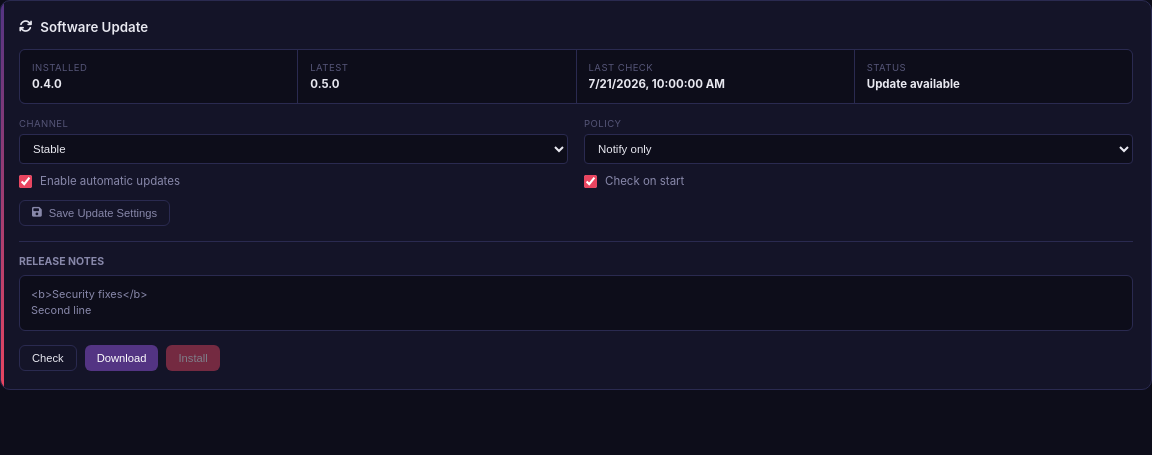
Test case: SoftwareUpdateSection › saves the complete validated settings object explicitly
Expected: the text "Update available" is shown, left=867, top=77, right=960, bottom=91
Click the checkbox labelled "Enable automatic updates" at [26, 181], box left=19, top=174, right=32, bottom=188
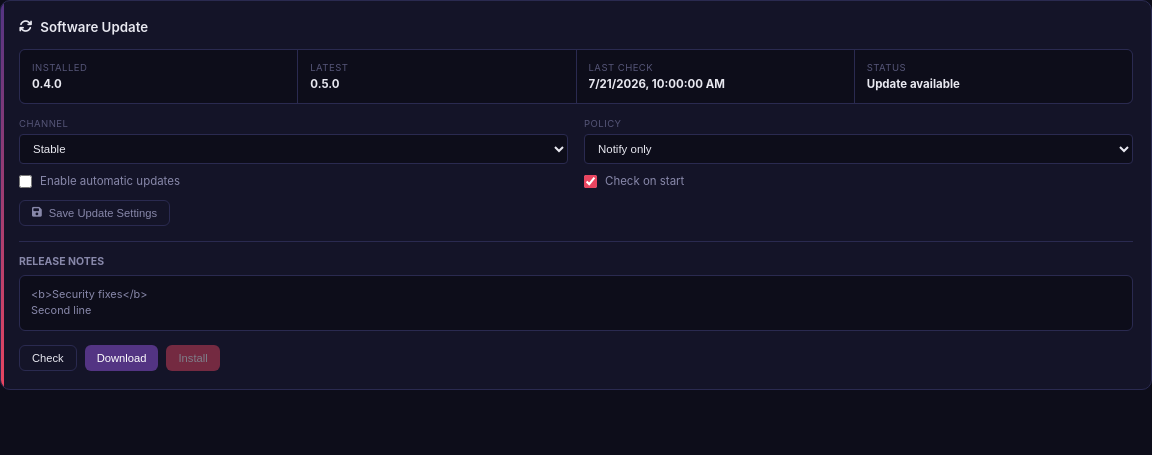
Click the checkbox labelled "Check on start" at [590, 181], box left=584, top=174, right=597, bottom=188
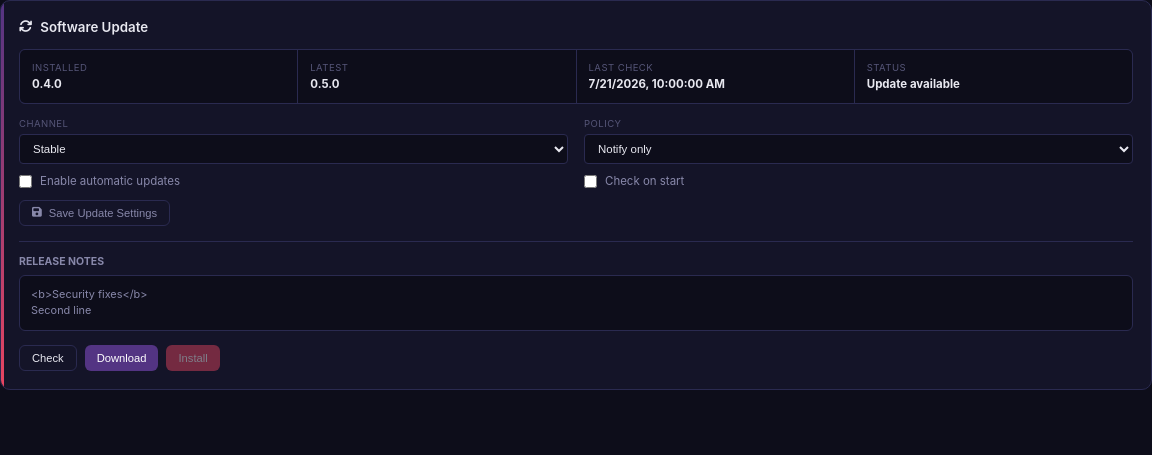
Select "Download and install automatically" in the dropdown labelled "Policy" at [858, 149], box left=584, top=134, right=1133, bottom=164
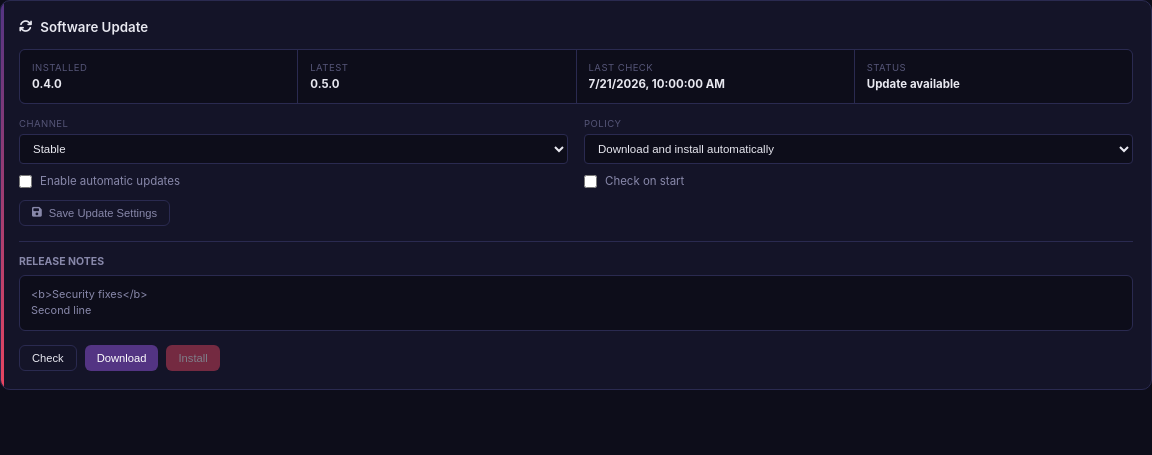
Click the button "Save Update Settings" at [94, 213], box left=19, top=200, right=170, bottom=226
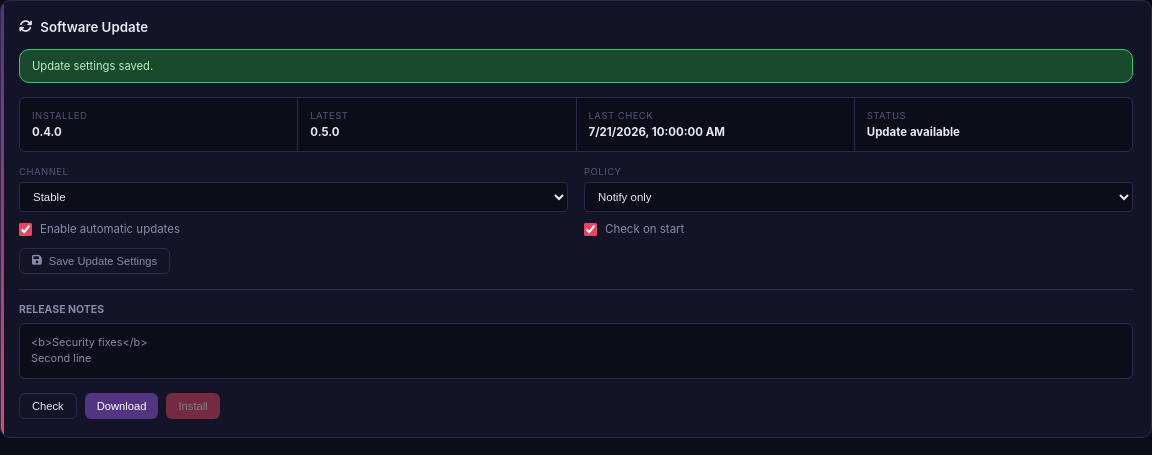
Expected: the text "Update settings saved." is shown, left=19, top=49, right=1133, bottom=83
